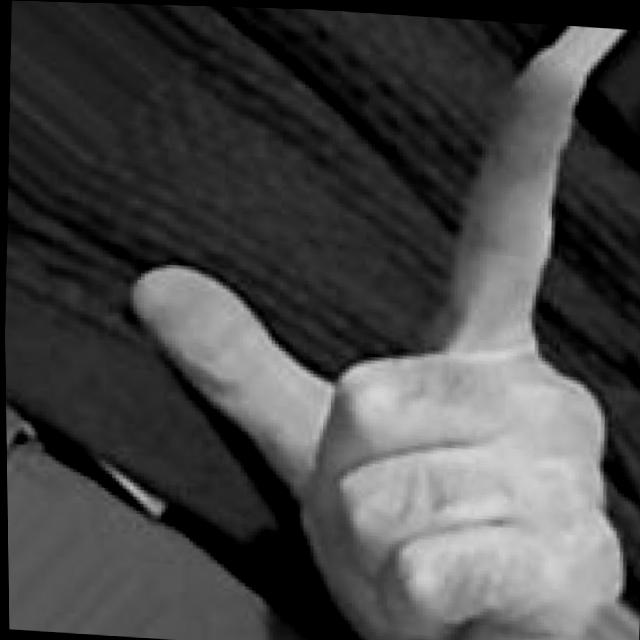L: (92, 15, 640, 640)
